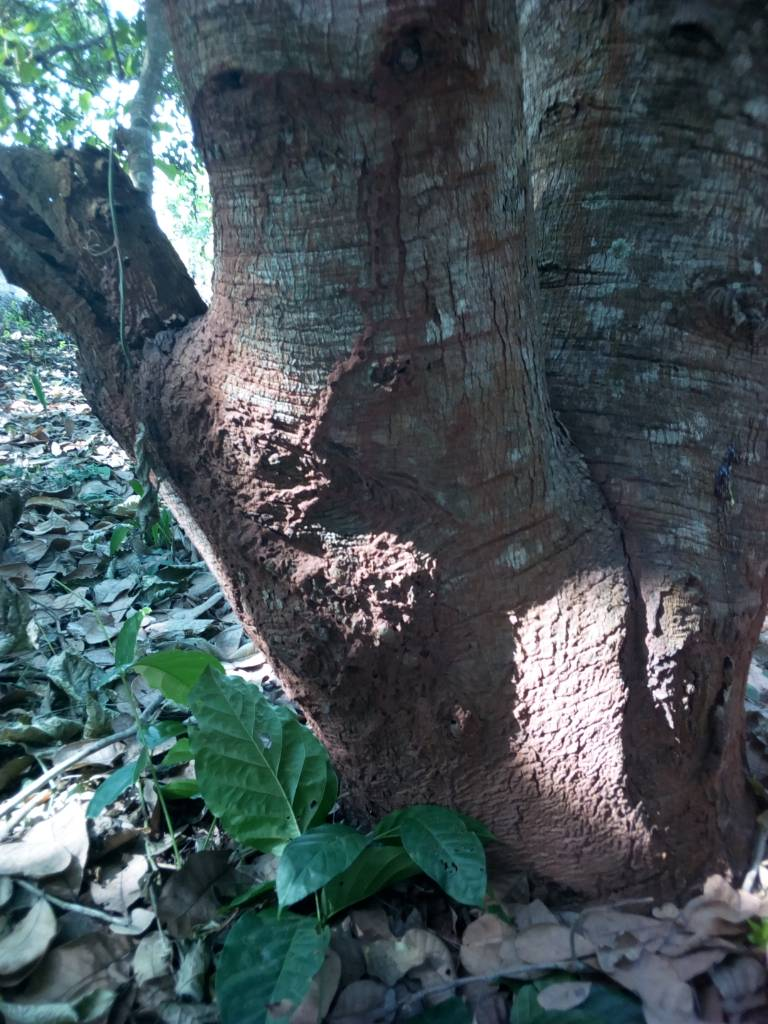Termites: (496, 574, 752, 889), (316, 449, 482, 741), (158, 347, 311, 578)
